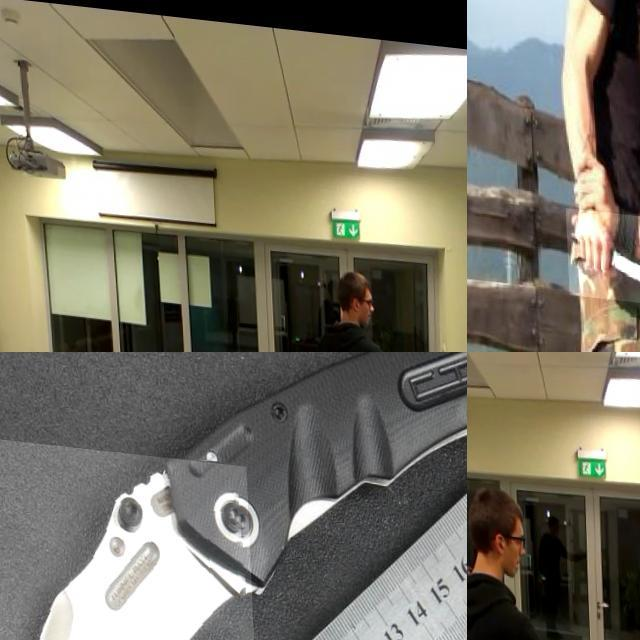-: (0, 435, 258, 640), (562, 203, 640, 299)
